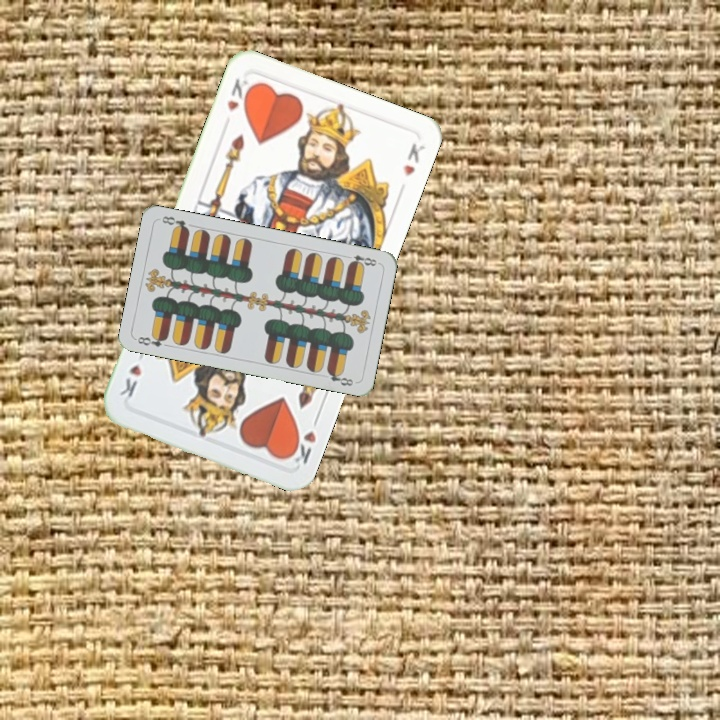E8: (341, 251, 381, 270), (133, 330, 170, 349)
HK: (284, 425, 319, 467), (222, 74, 256, 114)
